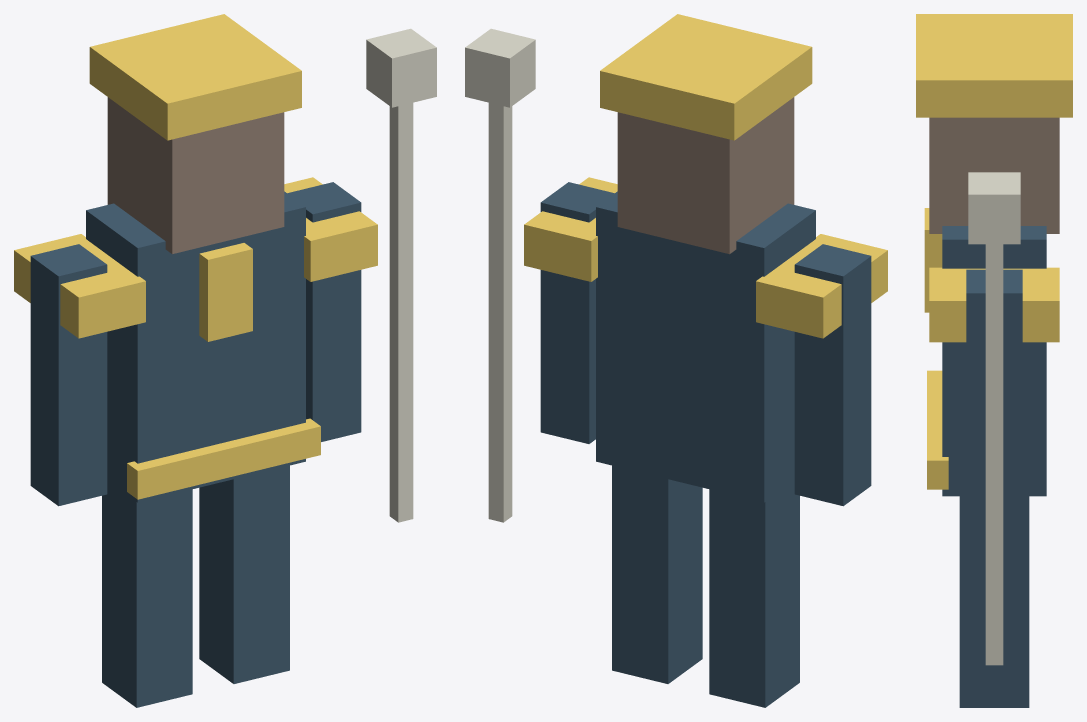
The model's file is 17_tamsin_chromabell_courier_near_anomaly.glb.
3 renders of one model, left to right at view 1: azimuth 30°, elevation 25°; view 2: azimuth 150°, elevation 25°; view 3: azimuth 270°, elevation 25°, orthographic.
Visible parts, largest first — view 1: Tamsin Chromabell, Courier near Anomaly; view 2: Tamsin Chromabell, Courier near Anomaly; view 3: Tamsin Chromabell, Courier near Anomaly.
Boxes of the visible parts, box(x1,y1,x2,y2) form: Tamsin Chromabell, Courier near Anomaly: box(14, 14, 436, 707); Tamsin Chromabell, Courier near Anomaly: box(465, 14, 887, 707); Tamsin Chromabell, Courier near Anomaly: box(916, 14, 1072, 707).
Size of the model in its own units: 1.06 by 1.65 by 0.3766.
